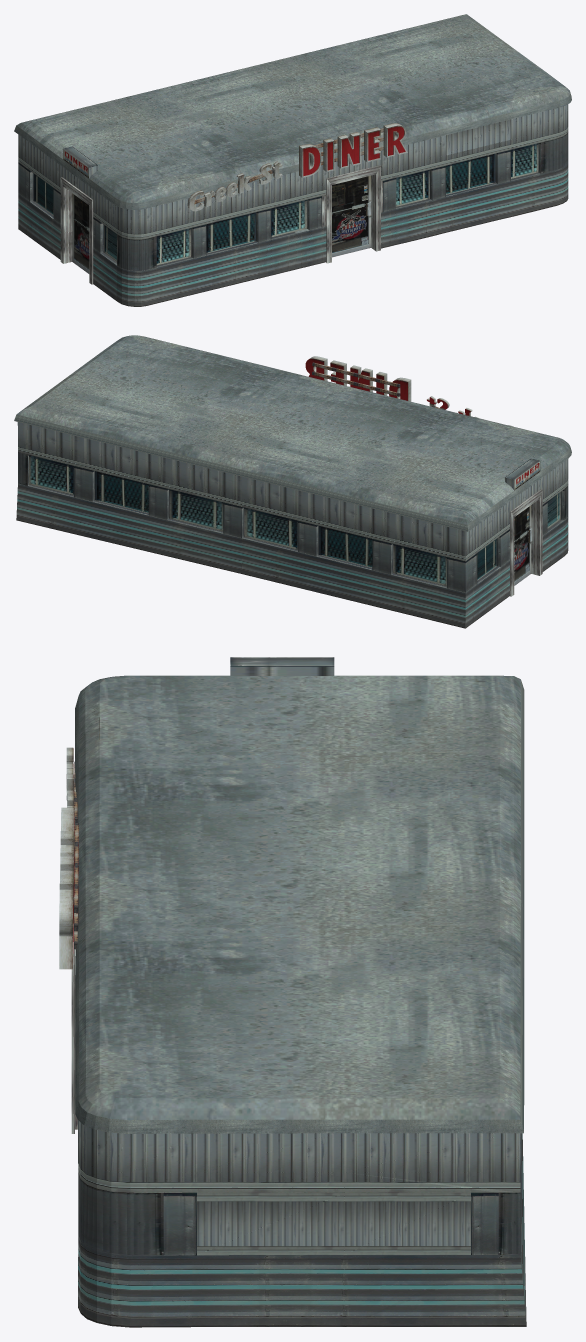
Rendered from Diner_Restaurant.obj.
3 renders of one model, top to bottom at view 1: azimuth 30°, elevation 25°; view 2: azimuth 150°, elevation 25°; view 3: azimuth 270°, elevation 25°, orthographic. The views are drawn at different scales.
Parts seen in each view (by area): view 1: Diner_Restaurant_Diner_Restaurant_alumox, Diner_Restaurant_Diner_Restaurant_mh_dumbodinner, Diner_Restaurant_Diner_Restaurant_ks_dinermet_02, Diner_Restaurant_Diner_Restaurant_mh_dinerdet, Diner_Restaurant_Diner_Restaurant_dinersign, Diner_Restaurant_Diner_Restaurant_diner_door, Diner_Restaurant_Diner_Restaurant_ks_dinermet_02_ks_dinermet_02.; view 2: Diner_Restaurant_Diner_Restaurant_alumox, Diner_Restaurant_Diner_Restaurant_mh_dumbodinner, Diner_Restaurant_Diner_Restaurant_ks_dinermet_02, Diner_Restaurant_Diner_Restaurant_dinersign, Diner_Restaurant_Diner_Restaurant_mh_dinerdet, Diner_Restaurant_Diner_Restaurant_diner_door; view 3: Diner_Restaurant_Diner_Restaurant_alumox, Diner_Restaurant_Diner_Restaurant_ks_dinermet_02, Diner_Restaurant_Diner_Restaurant_mh_dumbodinner, Diner_Restaurant_Diner_Restaurant_mh_dinerdet, Diner_Restaurant_Diner_Restaurant_dinersign.
Part boxes in pixels (box(x1,y1,x2,y2)): Diner_Restaurant_Diner_Restaurant_alumox: box(14, 14, 571, 233); Diner_Restaurant_Diner_Restaurant_mh_dumbodinner: box(18, 142, 568, 306); Diner_Restaurant_Diner_Restaurant_ks_dinermet_02: box(18, 104, 568, 239); Diner_Restaurant_Diner_Restaurant_mh_dinerdet: box(60, 132, 568, 284); Diner_Restaurant_Diner_Restaurant_dinersign: box(187, 123, 407, 211); Diner_Restaurant_Diner_Restaurant_diner_door: box(72, 175, 371, 273); Diner_Restaurant_Diner_Restaurant_ks_dinermet_02_ks_dinermet_02.: box(408, 112, 540, 164); Diner_Restaurant_Diner_Restaurant_alumox: box(14, 335, 571, 531); Diner_Restaurant_Diner_Restaurant_mh_dumbodinner: box(16, 455, 568, 628); Diner_Restaurant_Diner_Restaurant_ks_dinermet_02: box(17, 422, 568, 561); Diner_Restaurant_Diner_Restaurant_dinersign: box(305, 356, 512, 426); Diner_Restaurant_Diner_Restaurant_mh_dinerdet: box(18, 452, 568, 596); Diner_Restaurant_Diner_Restaurant_diner_door: box(514, 505, 532, 585); Diner_Restaurant_Diner_Restaurant_alumox: box(75, 675, 524, 1133); Diner_Restaurant_Diner_Restaurant_ks_dinermet_02: box(78, 666, 520, 1255); Diner_Restaurant_Diner_Restaurant_mh_dumbodinner: box(78, 657, 526, 1327); Diner_Restaurant_Diner_Restaurant_mh_dinerdet: box(71, 913, 520, 1255); Diner_Restaurant_Diner_Restaurant_dinersign: box(59, 717, 99, 969).
Size of the model in its own units: 22.93 by 5.97 by 10.21.
7 materials, 7 textured.
